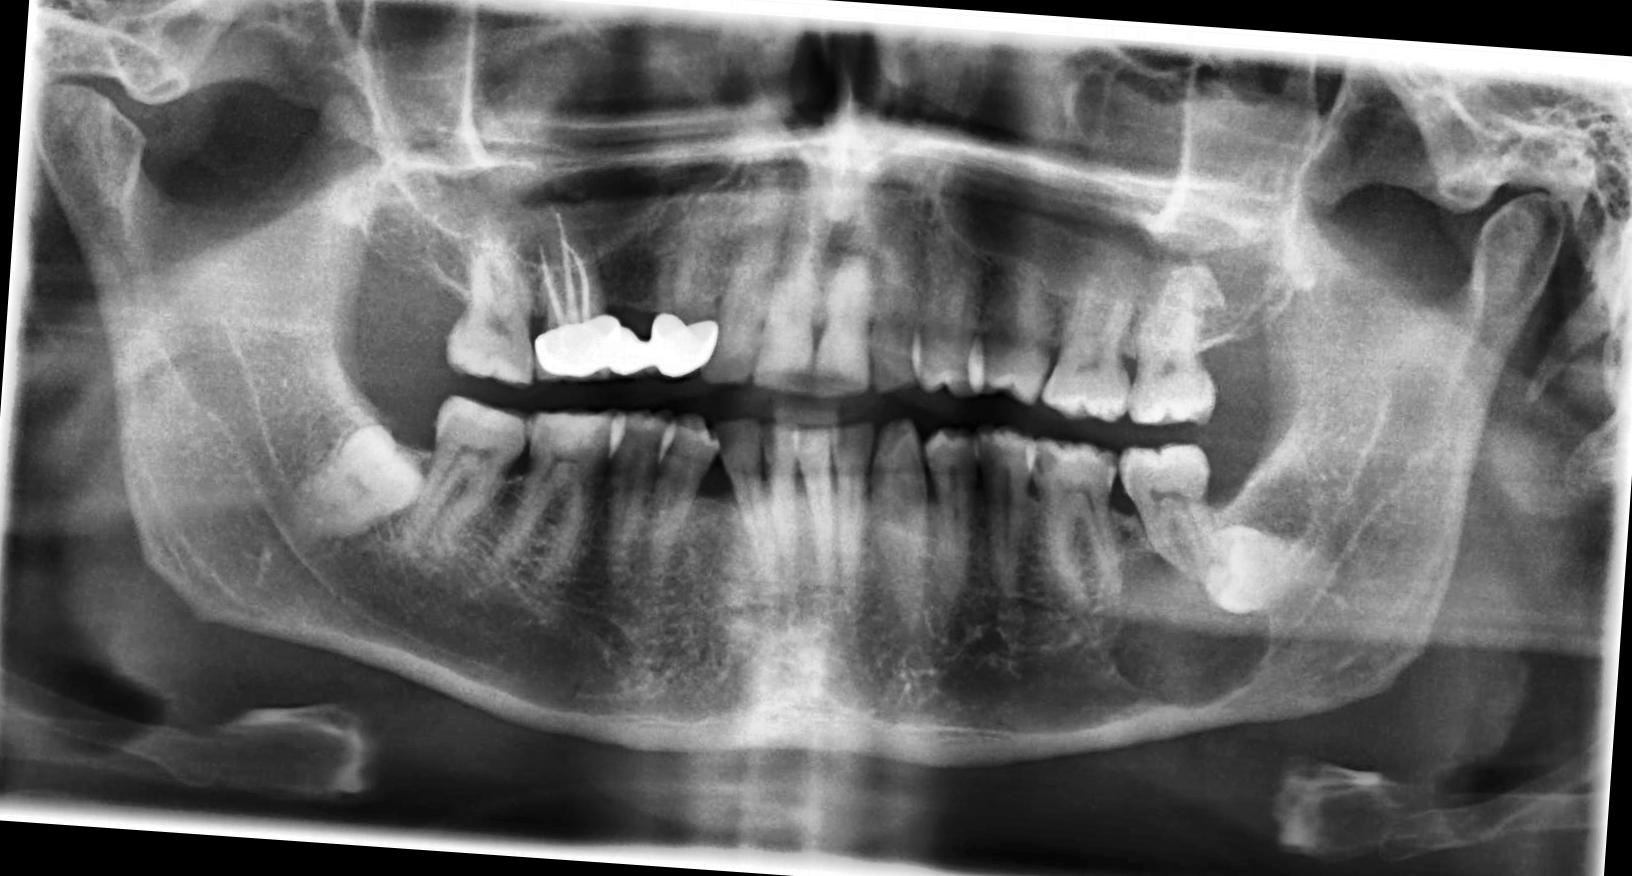keratokist: (1105, 548, 1278, 716)
